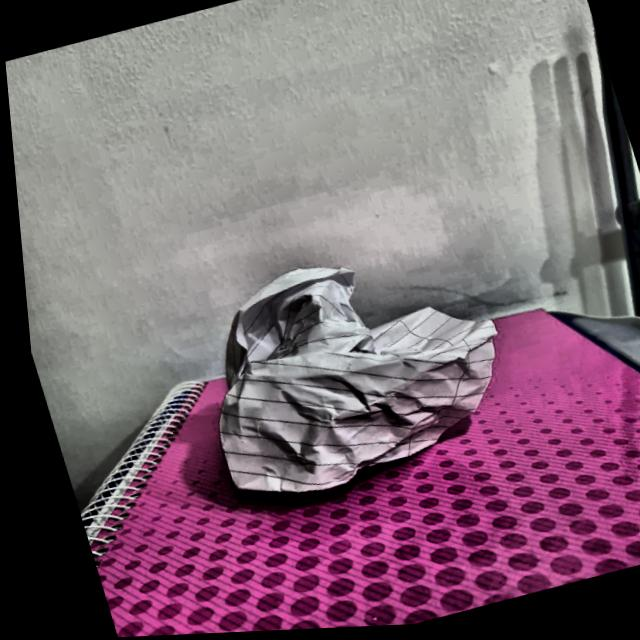Paper: (185, 242, 506, 490)
